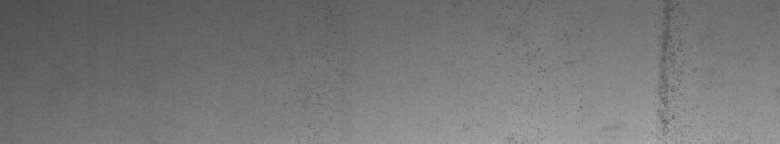ib: (498, 48, 582, 112)
